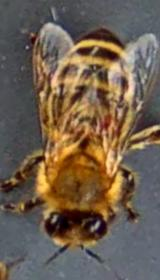varroa_mite: (95, 107, 122, 140)
